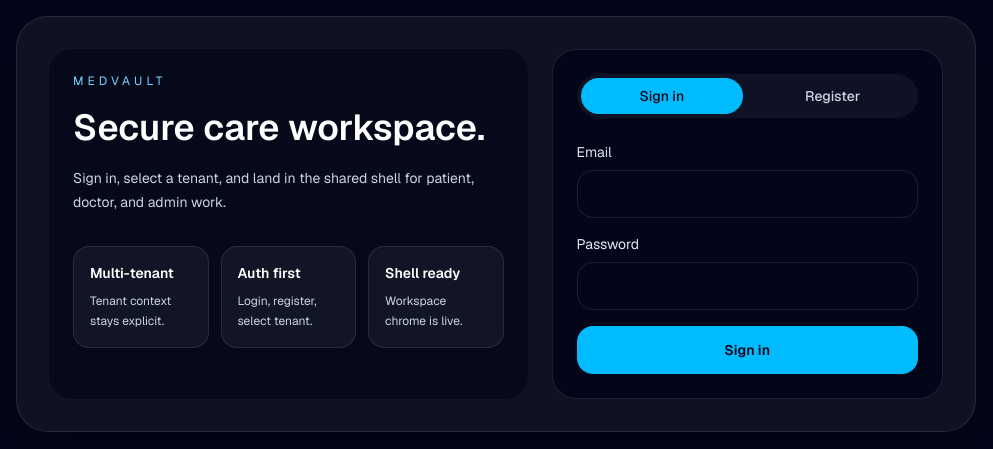
Test: AuthWorkspace › renders auth tabs and switches to register
What coordinates should you click on to do the following:
click the button "Register"
I would click on:
 (833, 96)
Its box is [751,78,914,114].
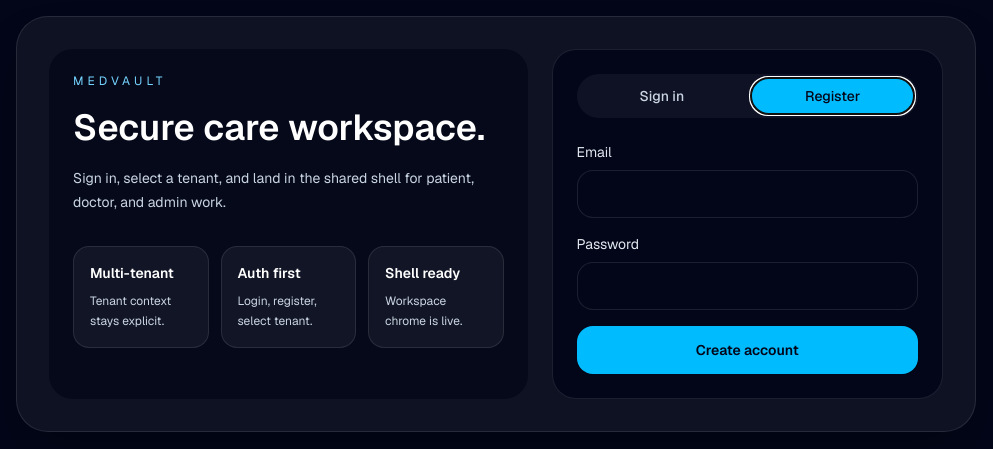
Result: the button "Create account" is shown at [576,326,918,374]
